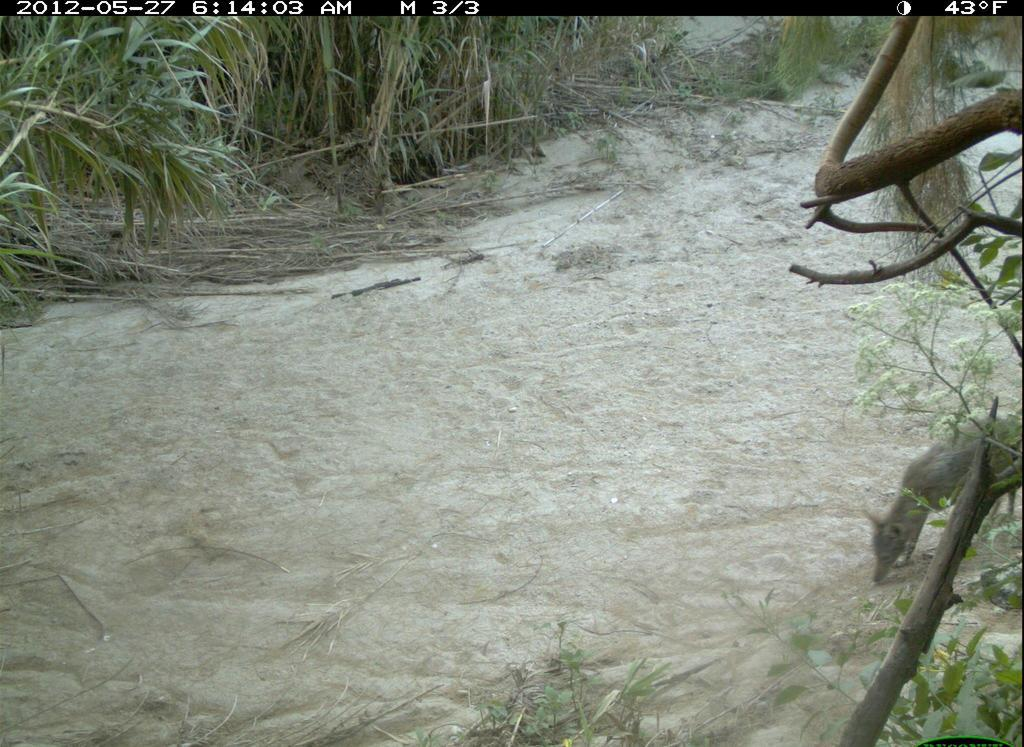coyote: (859, 413, 1019, 589)
